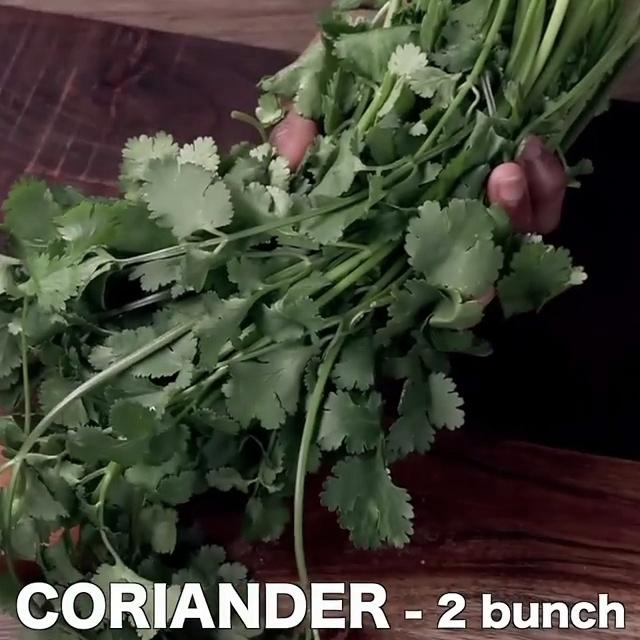cilantro: (0, 190, 483, 576)
